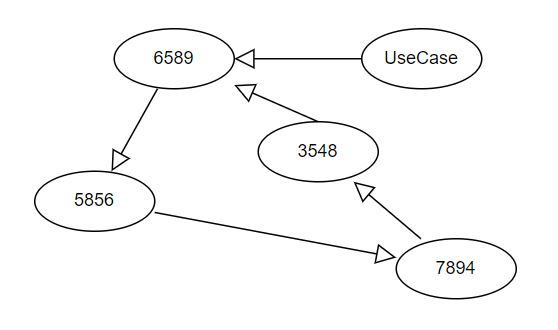generalization: (153, 210, 396, 265), (110, 88, 159, 171), (353, 180, 421, 239), (232, 83, 315, 119), (233, 48, 363, 69)
text: (384, 47, 459, 67), (291, 139, 345, 161), (432, 255, 481, 279), (153, 46, 195, 66), (73, 190, 117, 209)
use_case: (31, 169, 156, 231), (256, 119, 377, 183), (396, 237, 518, 298), (364, 28, 482, 89), (114, 28, 234, 87)
